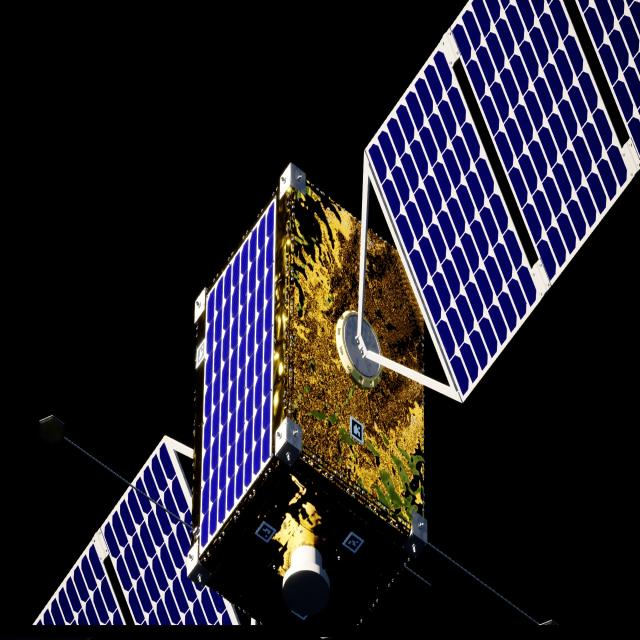medium_debris: (37, 0, 640, 640)
